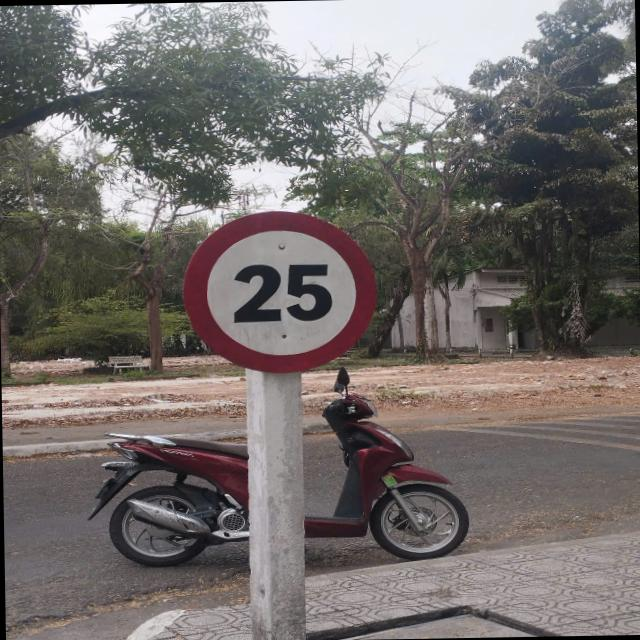Tre_Em: (180, 208, 378, 374)
